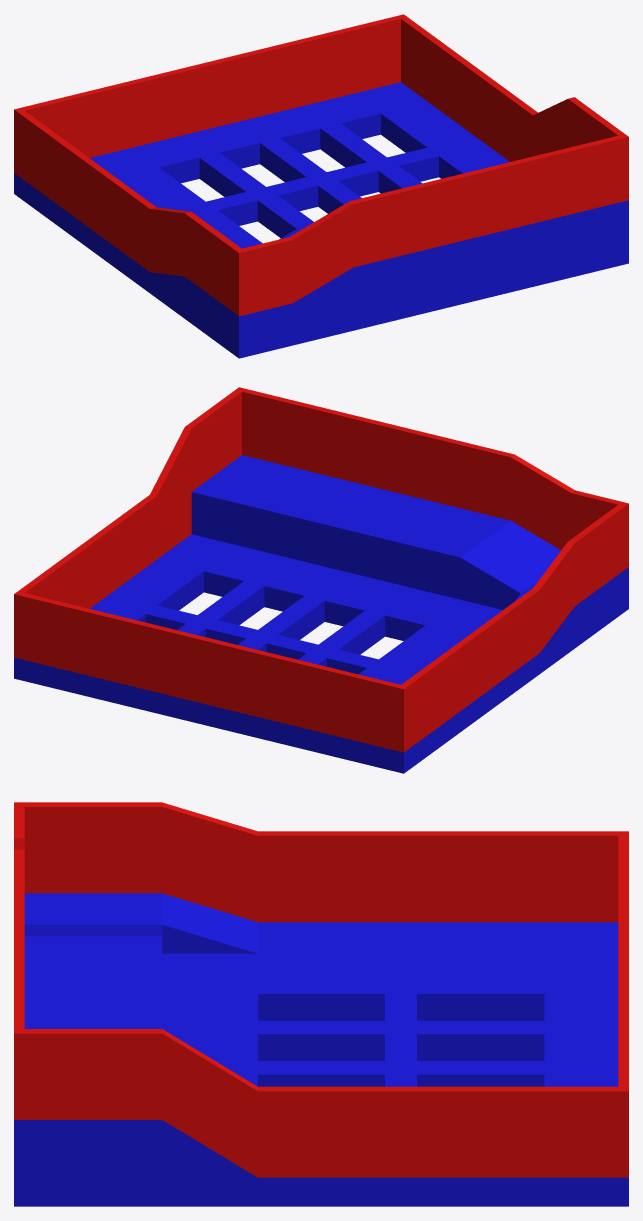
Rendered from Level_2.fbx.
3 renders of one model, top to bottom at view 1: azimuth 30°, elevation 25°; view 2: azimuth 150°, elevation 25°; view 3: azimuth 270°, elevation 25°, orthographic. The views are drawn at different scales.
Parts seen in each view (by area): view 1: Cube; view 2: Cube; view 3: Cube.
Part boxes in pixels (x1,y1,x2,y2): Cube: [14, 14, 628, 358]; Cube: [14, 387, 628, 773]; Cube: [14, 802, 628, 1206].
Size of the model in its own units: 1933 by 600 by 1933.
